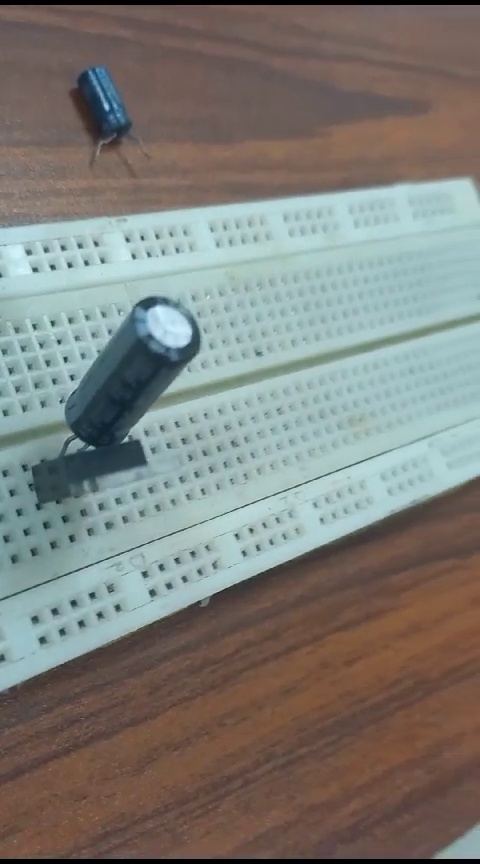capacitor: (59, 279, 203, 441), (64, 56, 142, 172)
voltage regulator: (27, 448, 166, 496)
